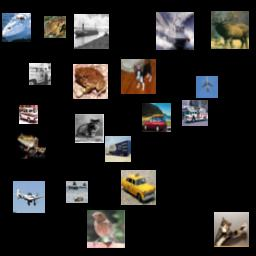airplane: (13, 181, 45, 213), (196, 76, 218, 98)
automobile: (121, 170, 156, 205), (142, 103, 171, 132), (19, 105, 38, 124)
bird: (87, 210, 125, 248)
cat: (214, 212, 249, 247), (75, 114, 104, 143)
deer: (211, 11, 249, 49), (66, 181, 88, 203)
dog: (121, 59, 156, 94)
frog: (73, 64, 108, 99), (17, 130, 46, 159), (44, 16, 66, 38)
ship: (156, 12, 194, 50), (74, 14, 109, 49), (2, 13, 31, 42)
truck: (182, 100, 208, 126), (105, 136, 131, 162), (29, 63, 51, 85)
